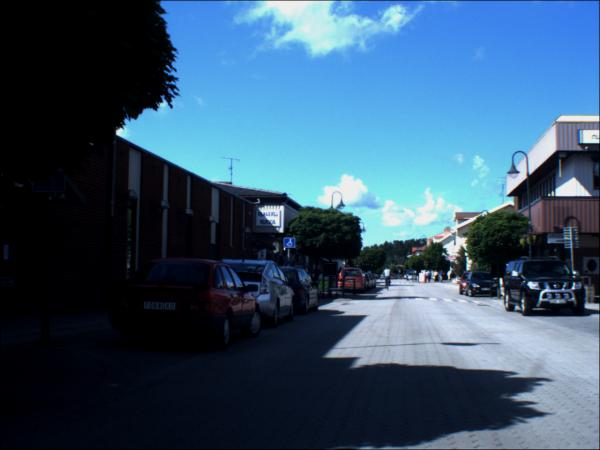PEDESTRIAN_CROSSING: (324, 265, 337, 277)
